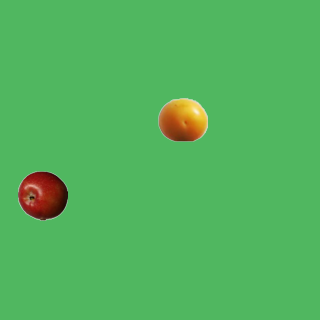Apple Braeburn: (17, 170, 67, 220)
Cherry Wax Yellow: (157, 94, 207, 144)
